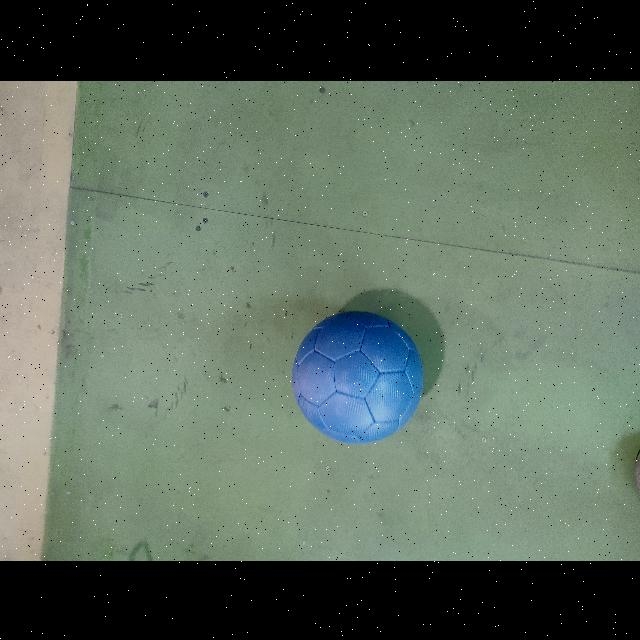B: (292, 310, 423, 443)
